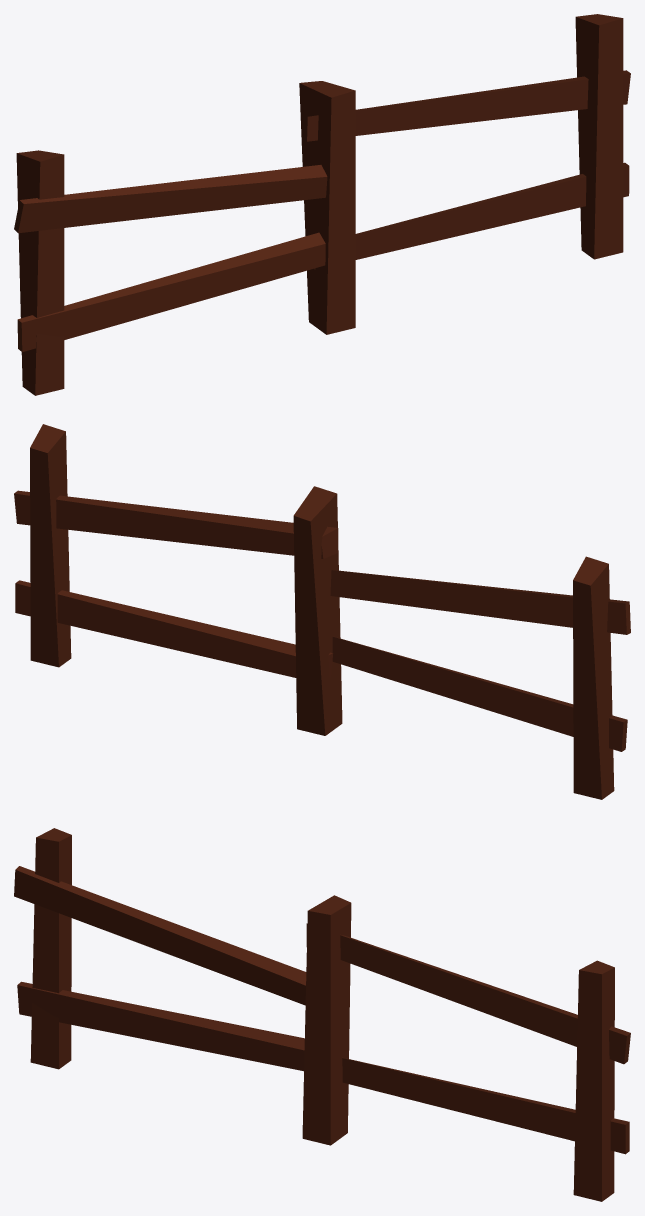
Rendered from fence_1.fbx.
3 views of the same model, one above another, from view 1: azimuth 30°, elevation 25°; view 2: azimuth 150°, elevation 25°; view 3: azimuth 330°, elevation 25° (orthographic). The views are drawn at different scales.
Visible parts, largest first — view 1: Fence_1; view 2: Fence_1; view 3: Fence_1.
Part boxes in pixels (<box>): Fence_1: <box>14,14,630,395</box>; Fence_1: <box>14,424,630,799</box>; Fence_1: <box>14,828,630,1201</box>.
Bounding box in the file's own units: 457 × 5467 × 2006.
